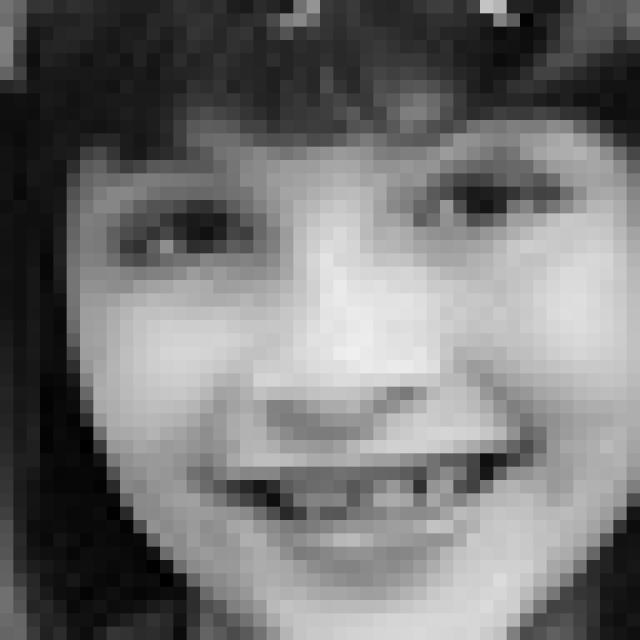happy: (96, 91, 609, 590)
